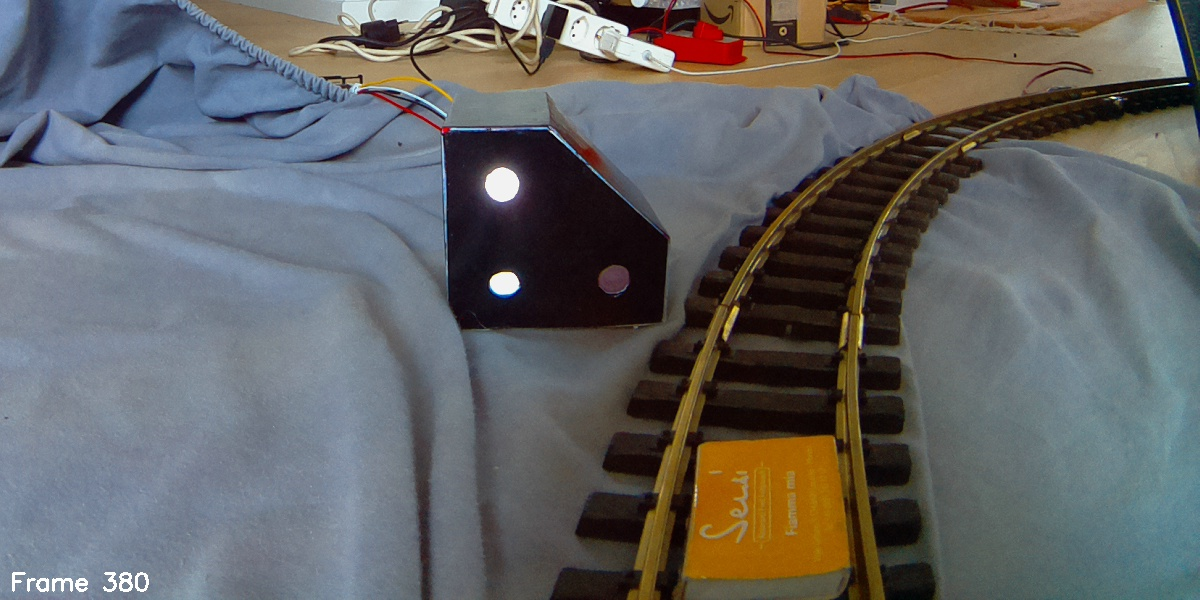Fahrt: (446, 91, 670, 335)
